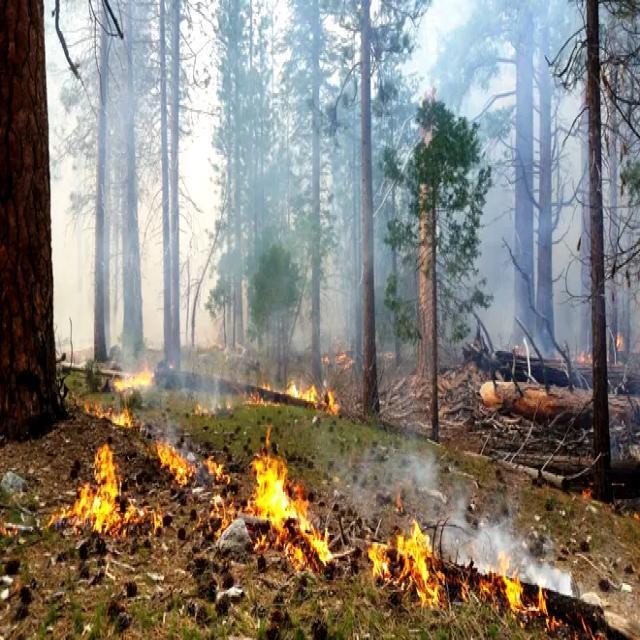Fire: (350, 504, 560, 636), (244, 442, 346, 598), (70, 442, 156, 542), (97, 366, 157, 439), (261, 371, 349, 418)
Smoke: (50, 16, 618, 389), (442, 516, 565, 589)
